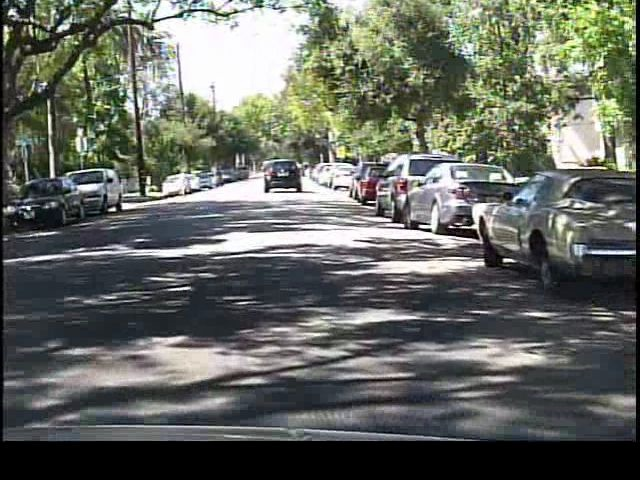person: (176, 166, 193, 201)
